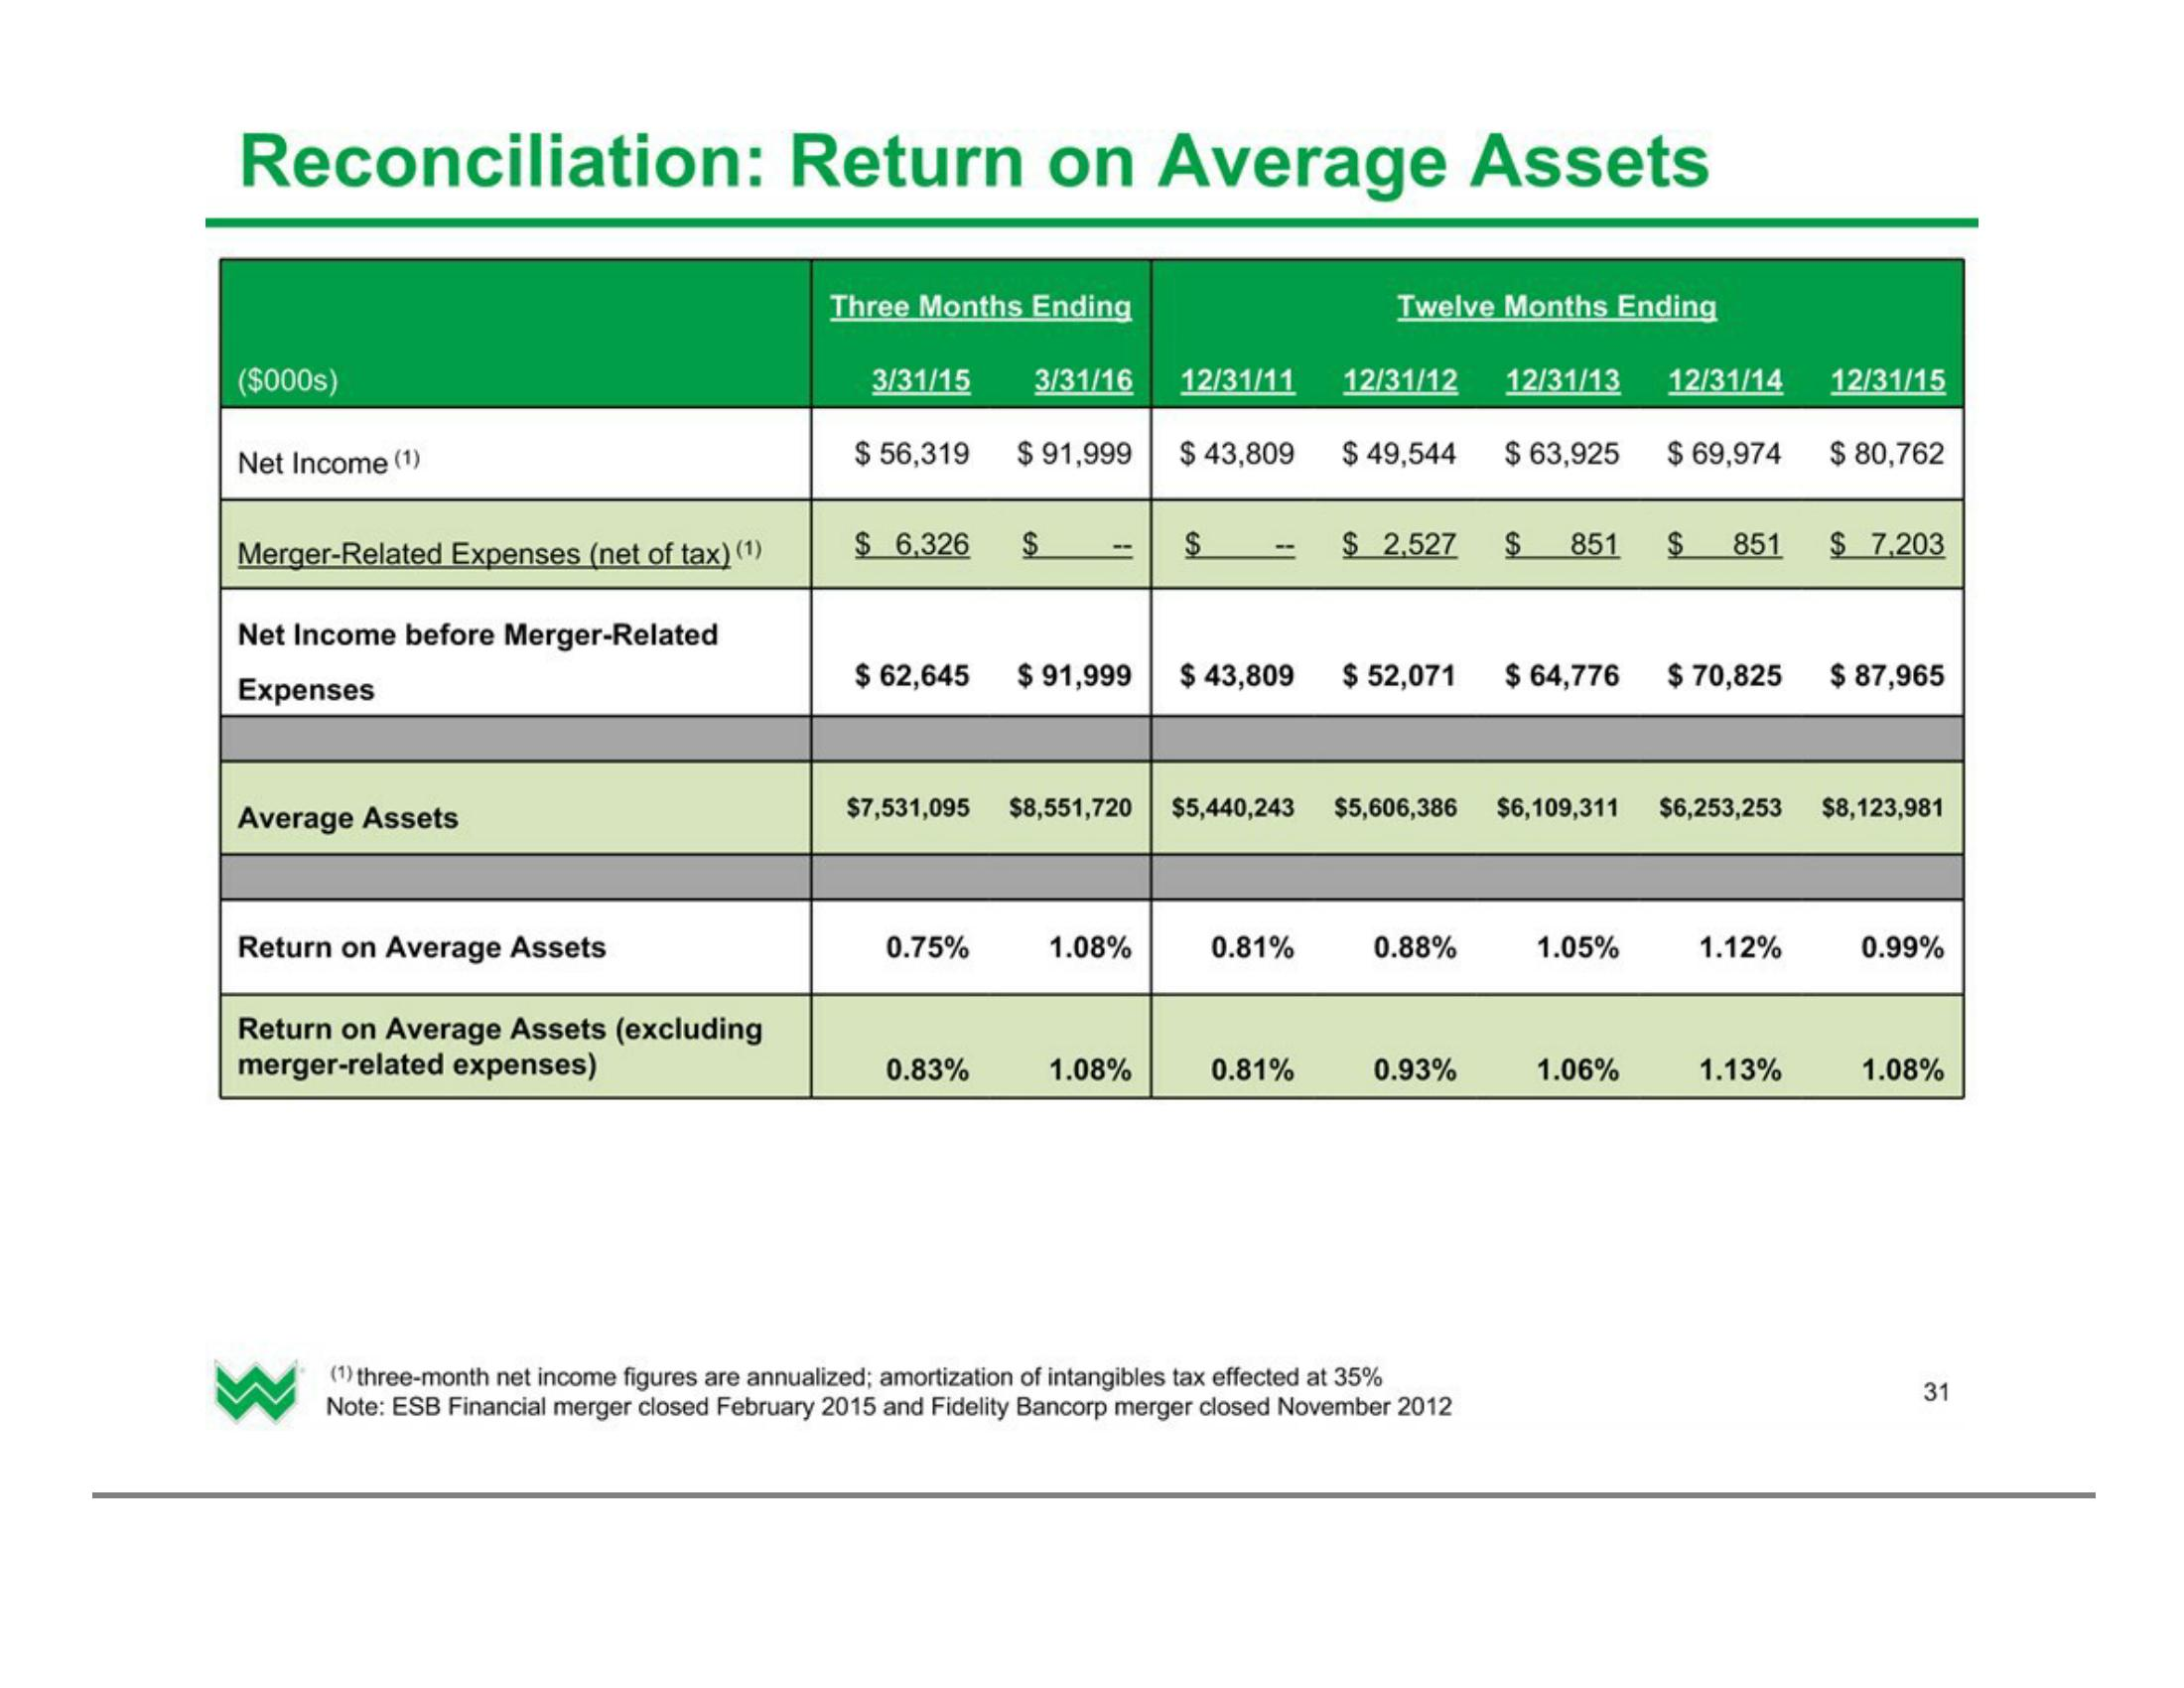table: (213, 252, 1971, 1112)
